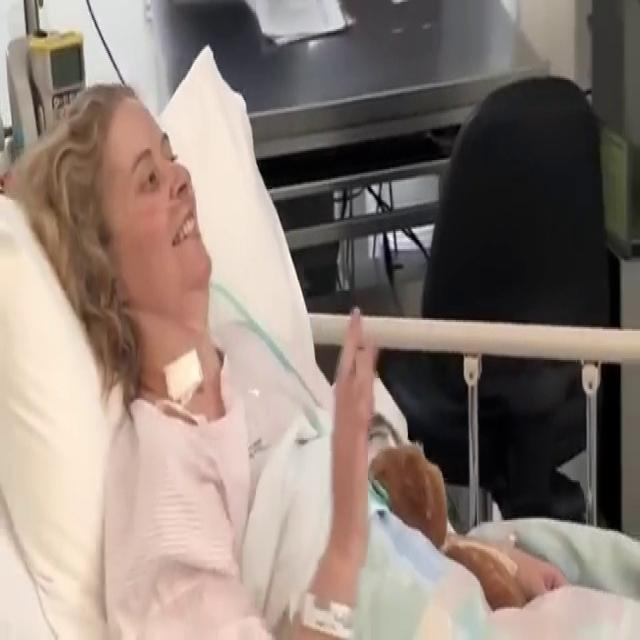patient: (6, 79, 575, 636)
